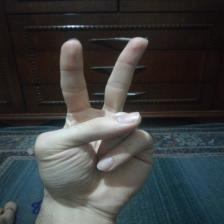two: (27, 33, 163, 206)
